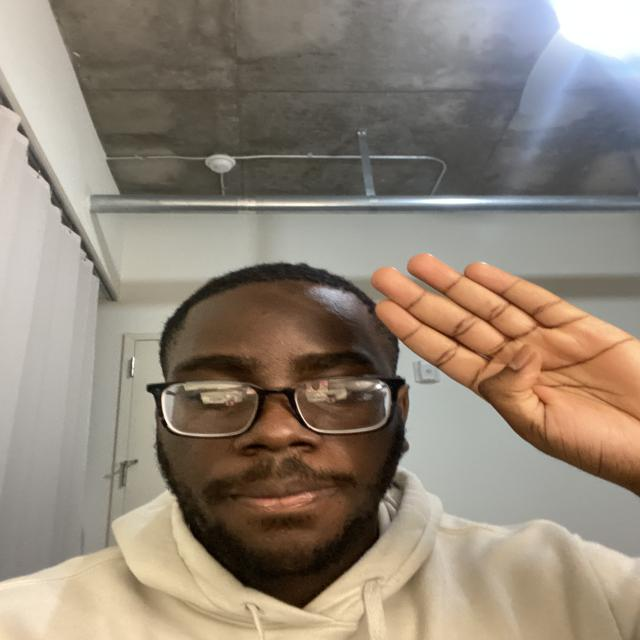Hello: (358, 227, 627, 481)
